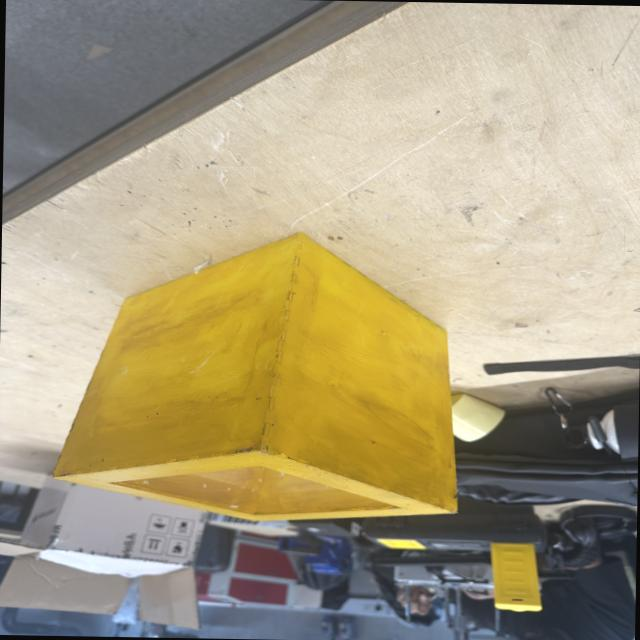yellow_bin: (51, 226, 460, 526)
